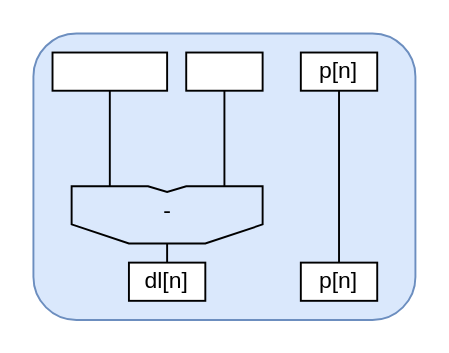
The diagram is 449 pixels wide and 353 high, and some of its shapes have lost their labels. Here are the shapes that lost their labels. From the top down, the centre of each, then its label:
point (109, 71): abs_dl[n]
point (223, 71): now
